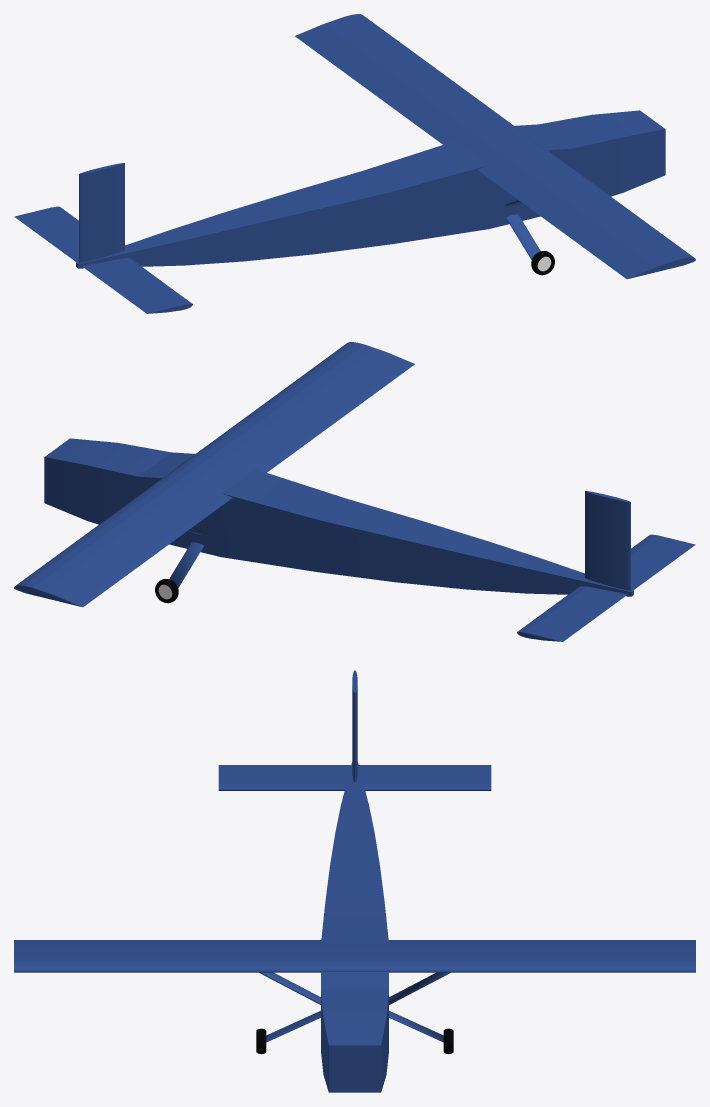
The picture shows the model from 3 angles, top to bottom: view 1: azimuth 30°, elevation 25°; view 2: azimuth 150°, elevation 25°; view 3: azimuth 270°, elevation 25°; orthographic projection. The views are drawn at different scales.
Visible parts, largest first — view 1: Fusilage, Wing, Wing.001, Cylinder.002, Cylinder.001; view 2: Fusilage, Wing, Wing.001, Cylinder.002, Cylinder.001; view 3: Wing, Fusilage, Wing.001, Cylinder, Cylinder.001, Cylinder.002.
Boxes of the visible parts, bbox=[...] form: Fusilage: bbox=[76, 110, 665, 268]; Wing: bbox=[295, 14, 695, 279]; Wing.001: bbox=[14, 206, 192, 313]; Cylinder.002: bbox=[79, 163, 124, 262]; Cylinder.001: bbox=[506, 214, 540, 259]; Fusilage: bbox=[44, 438, 633, 596]; Wing: bbox=[14, 342, 414, 607]; Wing.001: bbox=[517, 534, 695, 641]; Cylinder.002: bbox=[585, 491, 630, 590]; Cylinder.001: bbox=[169, 542, 203, 587]; Wing: bbox=[14, 940, 695, 972]; Fusilage: bbox=[321, 762, 388, 1092]; Wing.001: bbox=[218, 765, 491, 790]; Cylinder: bbox=[259, 972, 450, 1004]; Cylinder.001: bbox=[266, 1010, 443, 1042]; Cylinder.002: bbox=[352, 670, 357, 782].
Bounding box in the file's own units: 20 × 5.61 × 20.
